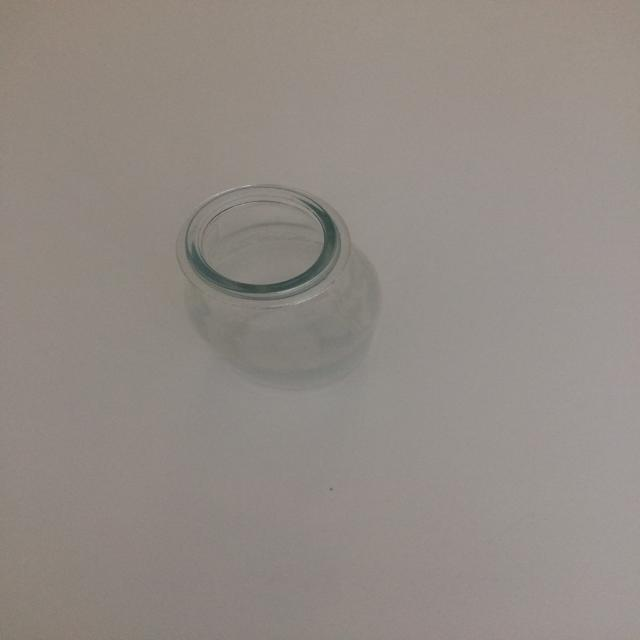glass: (172, 182, 385, 396)
